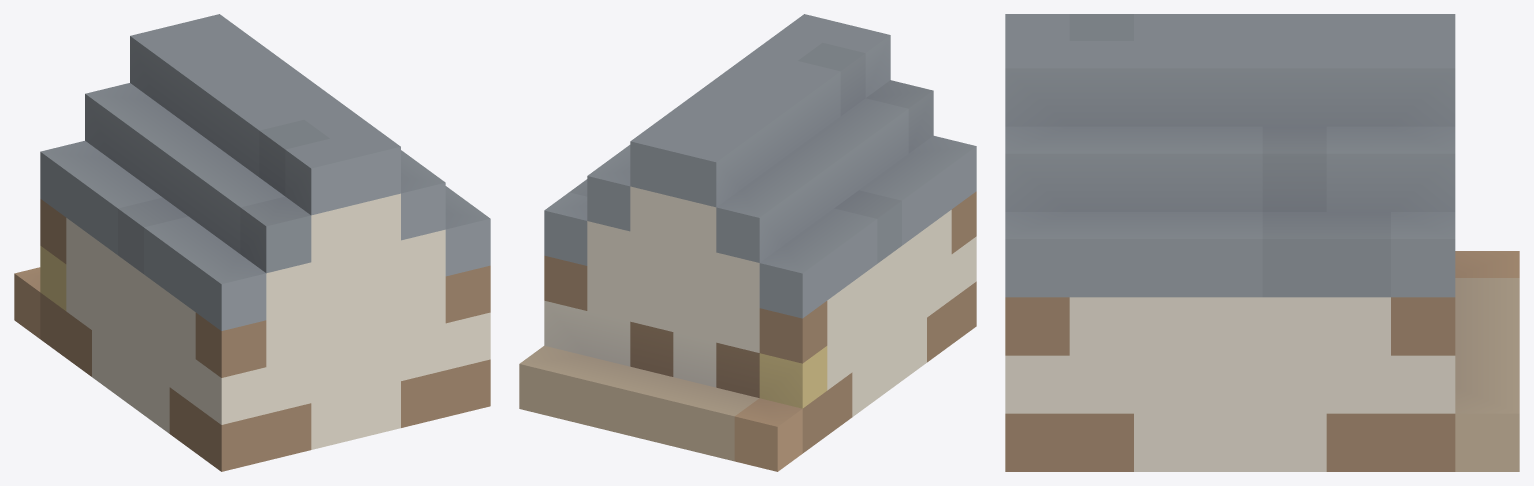
Rendered from woad_farm.lite.glb.
3 views of the same model, side by side, from view 1: azimuth 30°, elevation 25°; view 2: azimuth 150°, elevation 25°; view 3: azimuth 270°, elevation 25° (orthographic). The views are drawn at different scales.
Parts seen in each view (by area): view 1: woad_farm; view 2: woad_farm; view 3: woad_farm.
Part boxes in pixels (left/top/right/bottom): woad_farm: left=14, top=14, right=490, bottom=471; woad_farm: left=519, top=14, right=976, bottom=471; woad_farm: left=1005, top=14, right=1519, bottom=471.
Size of the model in its own units: 3 by 3 by 4.
